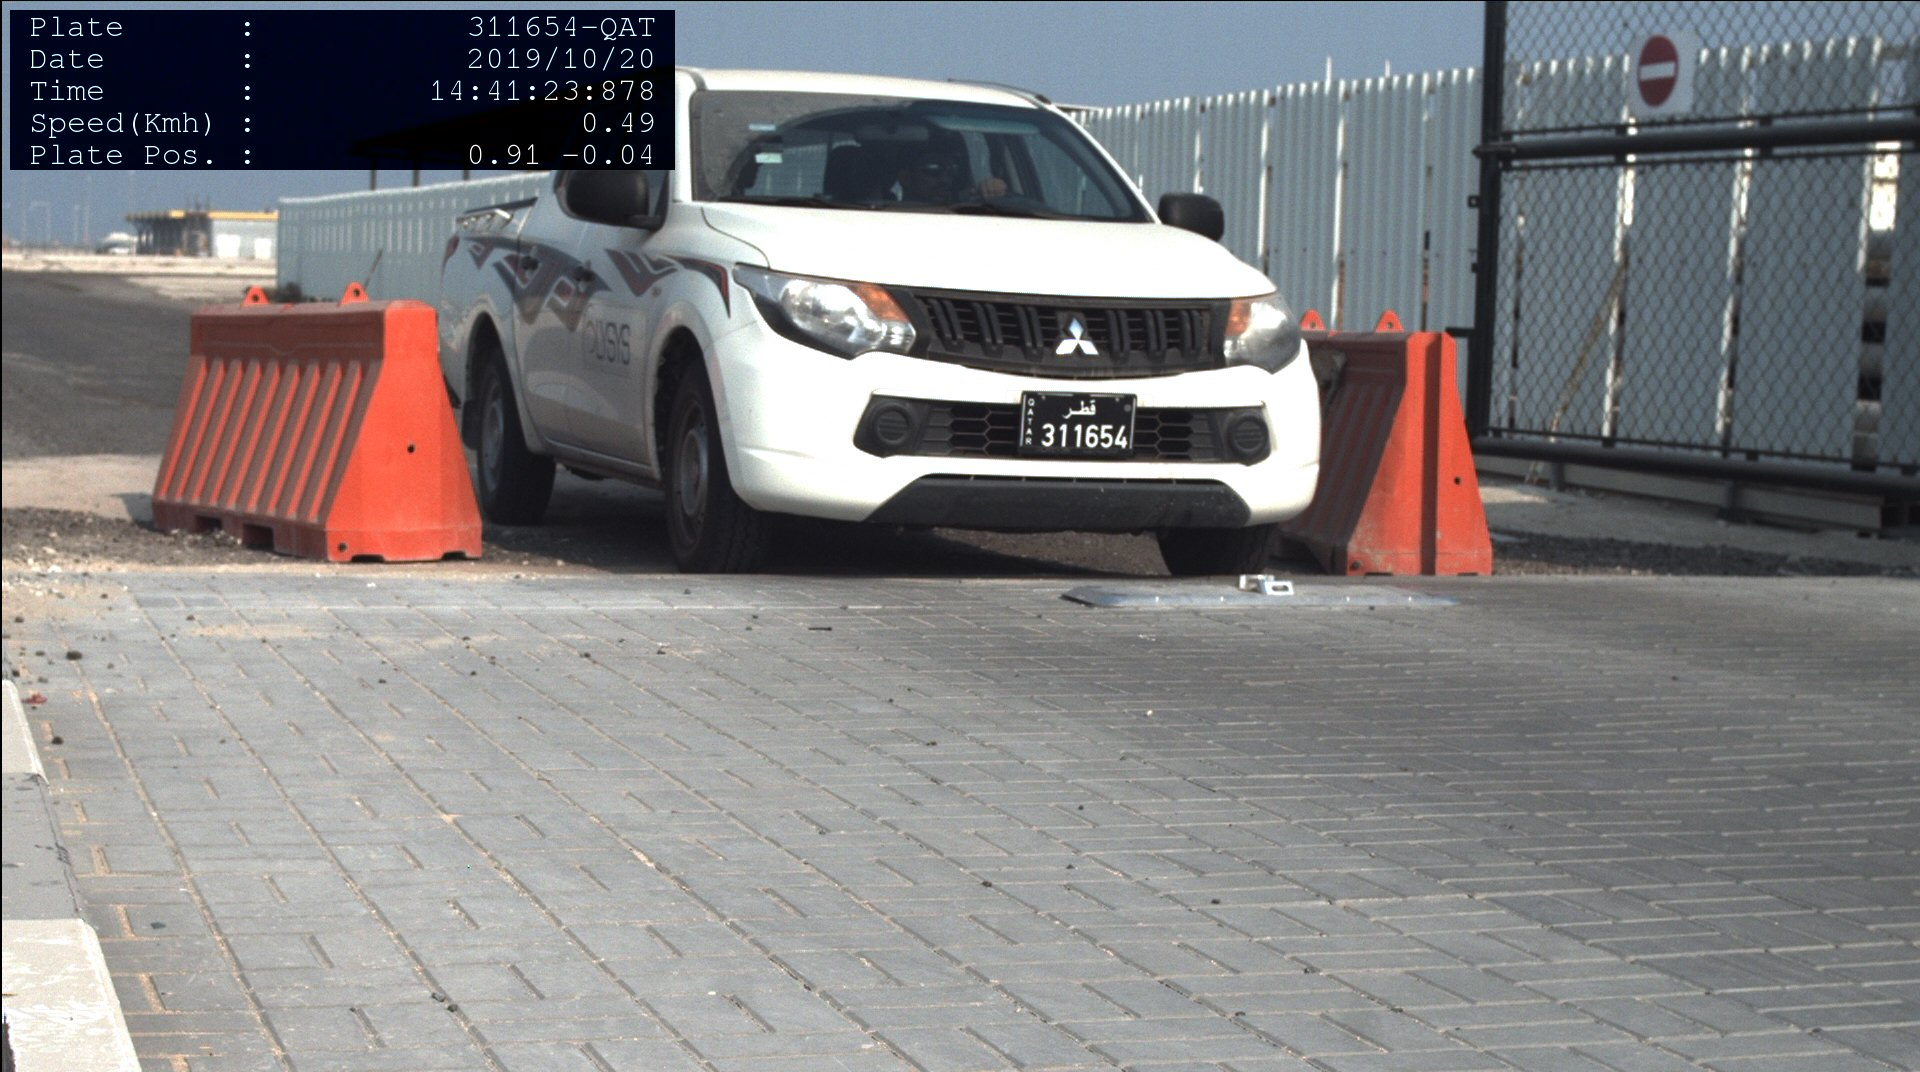License Plate: (1021, 393, 1136, 455)
